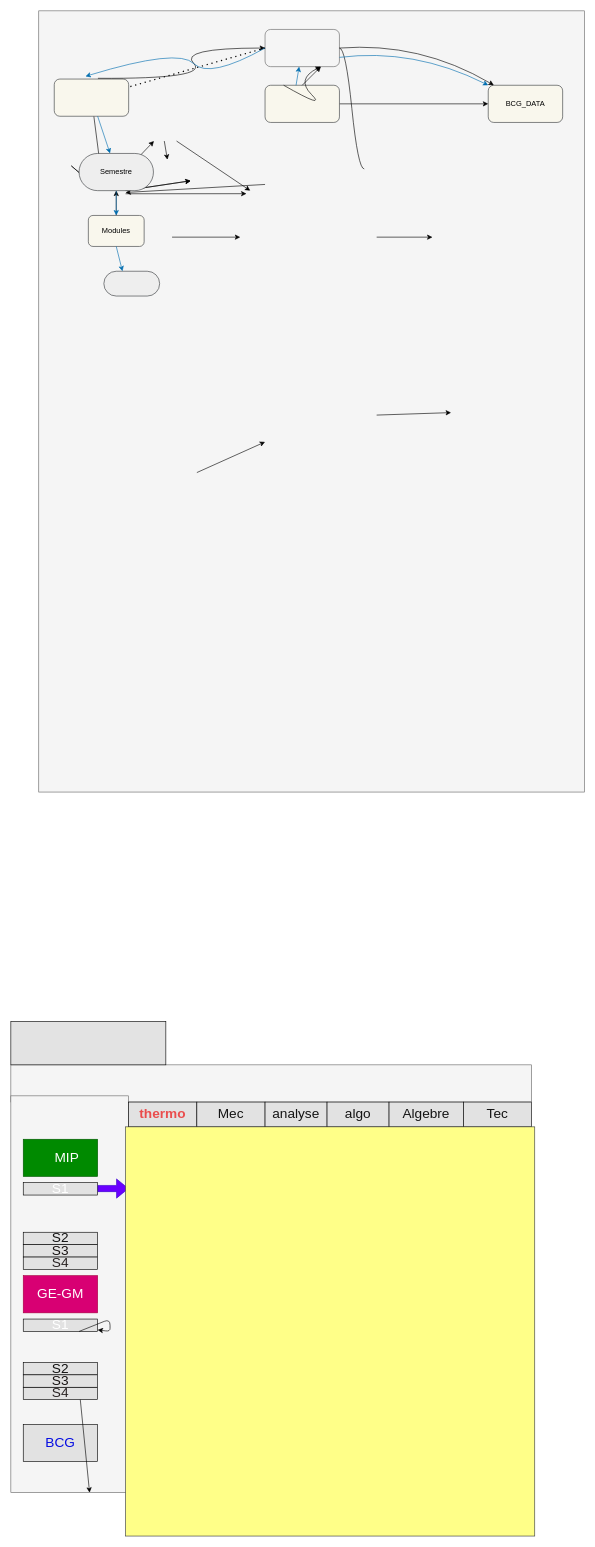
The diagram is 595 pixels wide and 1547 high, and some of its shapes have lost their labels. The shapes that lost their labels are listed below. From the top down, each one's centre as x and y in pixels, then its label:
the point at 301,48: COUR_DATA
the point at 91,97: GEGM_DATA
the point at 301,103: MIP_DATA
the point at 131,283: Videos
the point at 88,1043: LEARNING
the point at 271,1083: HEADER
